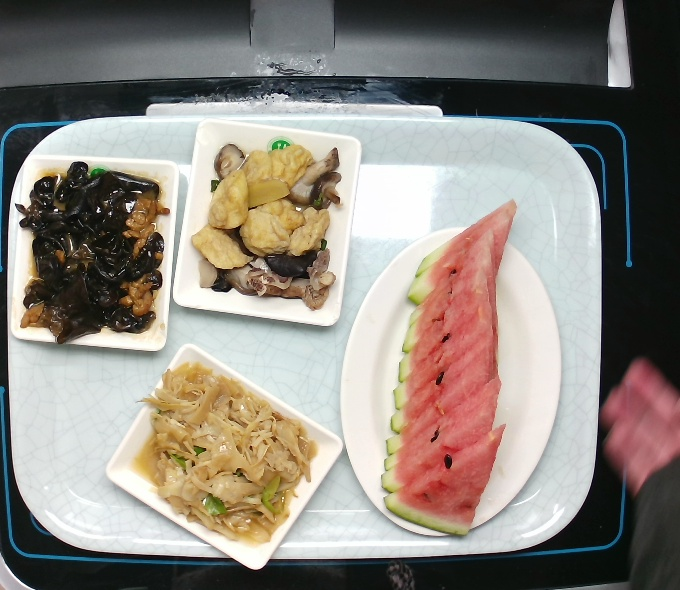wcq-LuSun: (135, 359, 323, 553)
wcq-MuErChaoRou: (8, 163, 168, 349)
wcq-XiGua: (380, 198, 517, 539)
wcq-YouPaoPaiGu: (191, 136, 352, 321)
